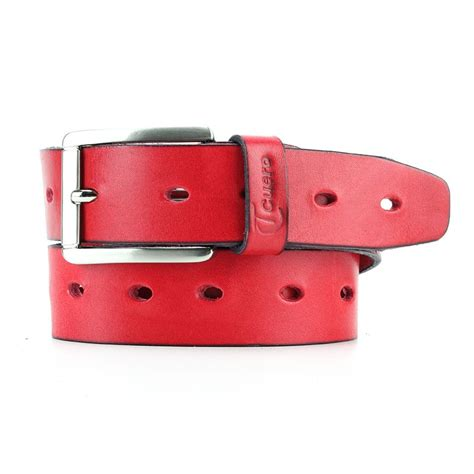cuero: (38, 136, 452, 347)
